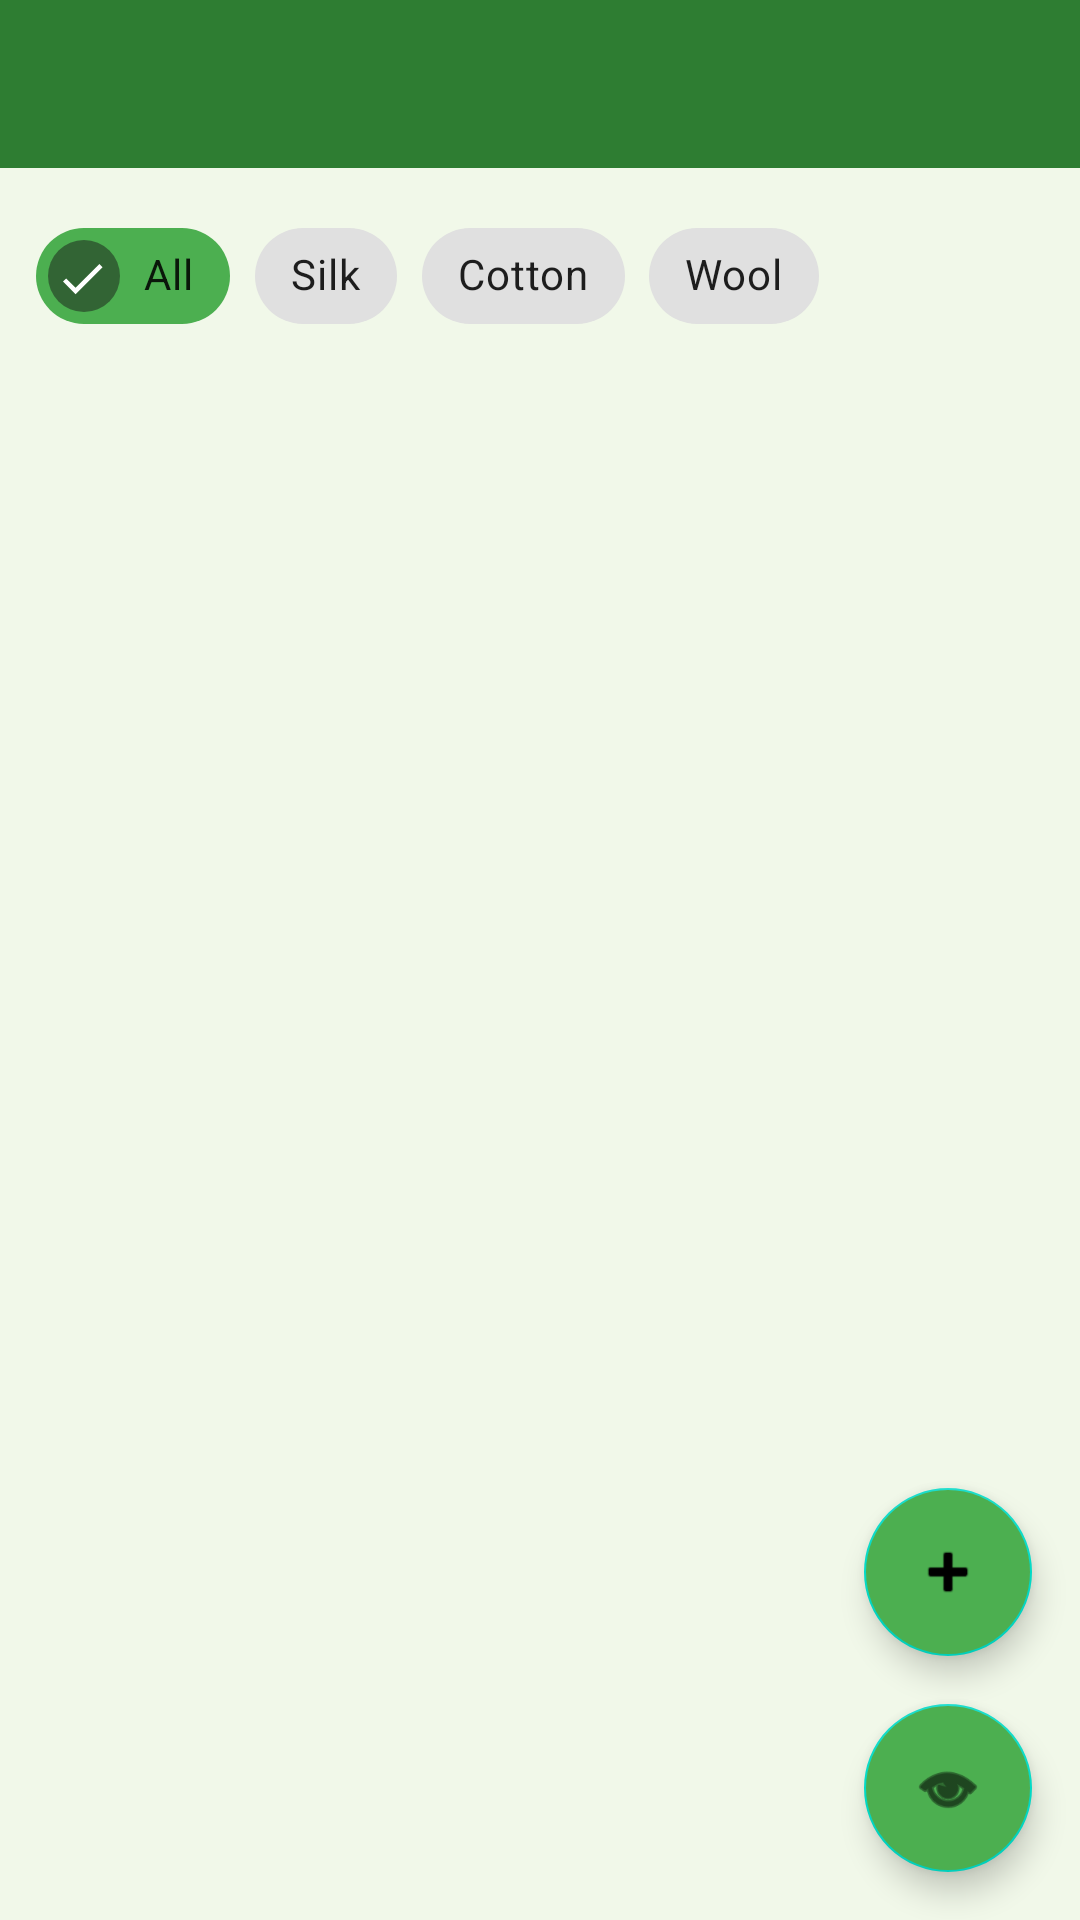

Icon bounding boxes for this 1080w x 1920h phone screenshot, format {"x1": x1, "y1": y1, "x2": x2, "y2": y2}:
Upload fabric scrap: {"x1": 864, "y1": 1488, "x2": 1032, "y2": 1656}
View requests: {"x1": 864, "y1": 1704, "x2": 1032, "y2": 1872}
